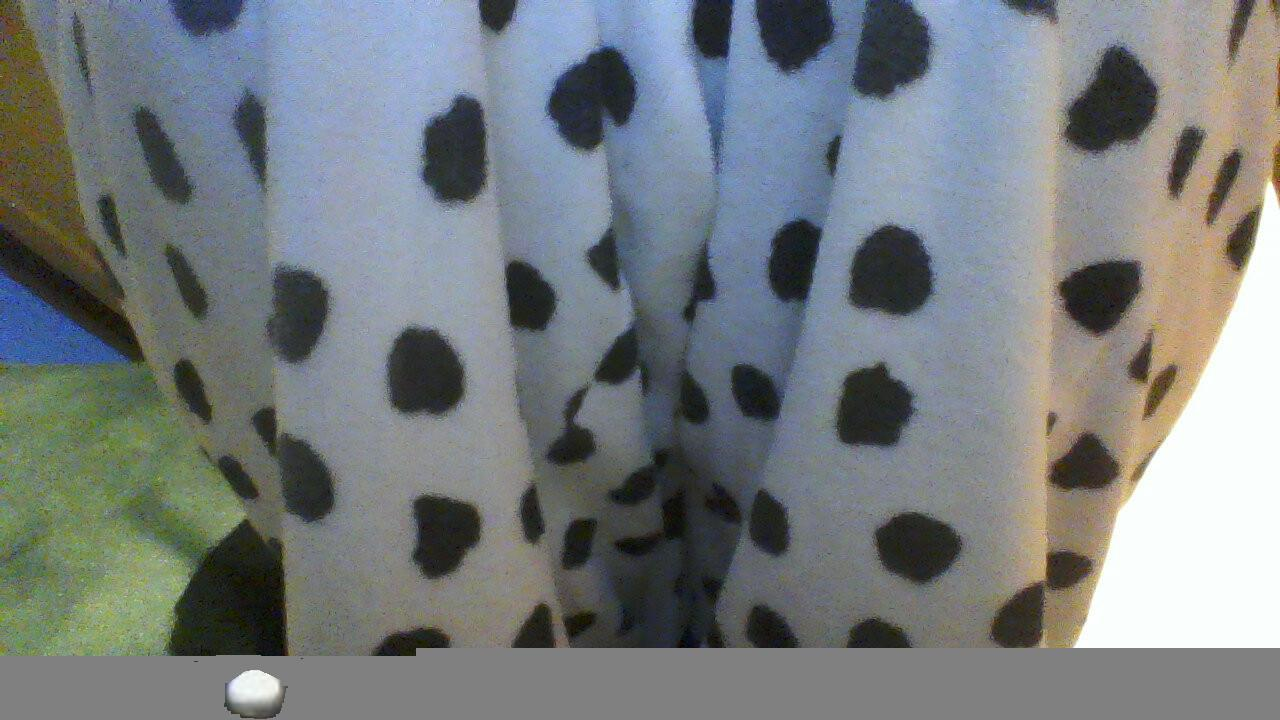pentago: (217, 667, 287, 718)
